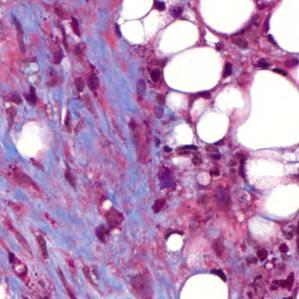steatosis: (161, 51, 232, 90), (190, 110, 237, 143)
